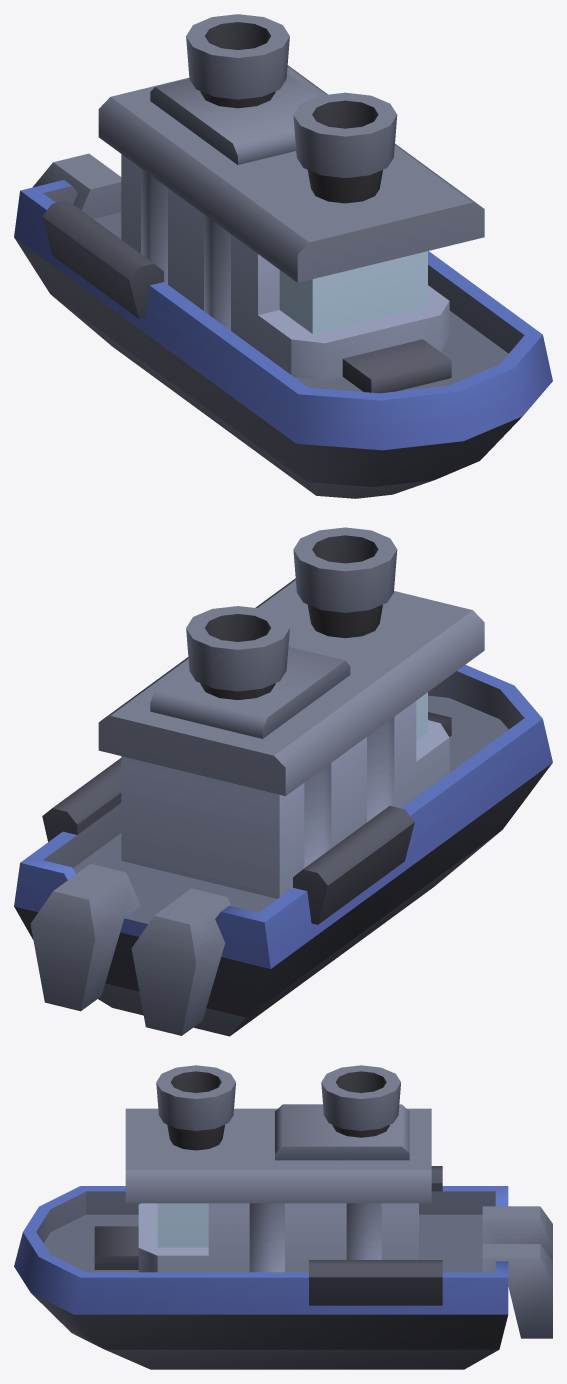
The model's file is boat-tow-a-transformed-transformed.glb.
3 renders of one model, top to bottom at view 1: azimuth 30°, elevation 25°; view 2: azimuth 150°, elevation 25°; view 3: azimuth 270°, elevation 25°, orthographic. The views are drawn at different scales.
Parts seen in each view (by area): view 1: boat-tow-a; view 2: boat-tow-a; view 3: boat-tow-a.
Part boxes in pixels (<box>): boat-tow-a: <box>14,14,552,498</box>; boat-tow-a: <box>14,527,552,1036</box>; boat-tow-a: <box>14,1065,552,1369</box>.
Size of the model in its own units: 2.88 by 3.33 by 6.12.
1 material, 1 textured.
